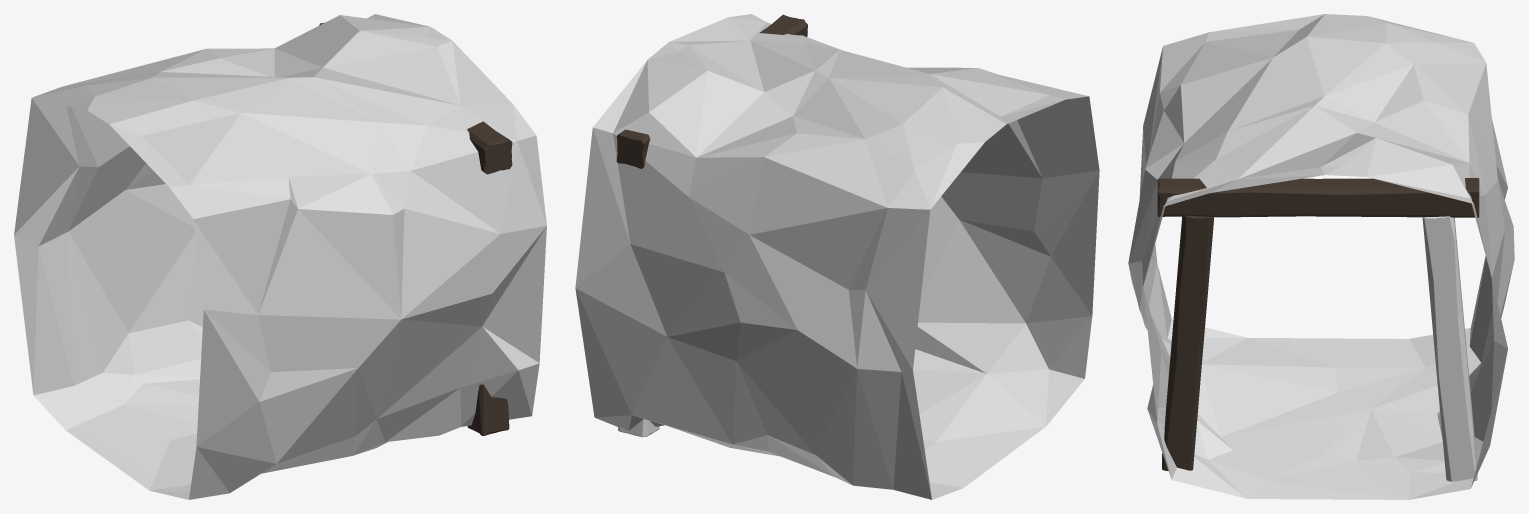
Rendered from SM_Spline2_LP_Pillars.fbx.
3 views of the same model, side by side, from view 1: azimuth 30°, elevation 25°; view 2: azimuth 150°, elevation 25°; view 3: azimuth 270°, elevation 25° (orthographic). The views are drawn at different scales.
Visible parts, largest first — view 1: Spline2_LP; view 2: Spline2_LP; view 3: Spline2_LP.
Part boxes in pixels (bbox=[...]): Spline2_LP: bbox=[14, 14, 546, 499]; Spline2_LP: bbox=[575, 14, 1099, 499]; Spline2_LP: bbox=[1128, 14, 1514, 499].
Size of the model in its own units: 309 by 305 by 298.
